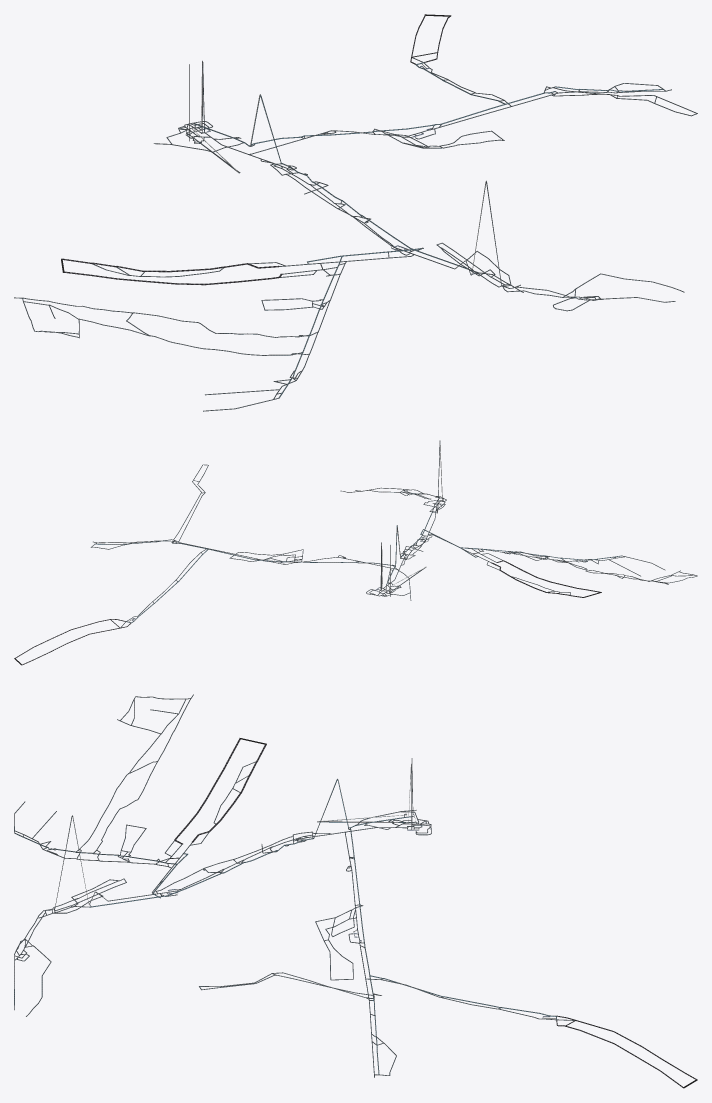
Rendered from JKYQMK.glb.
3 views of the same model, one above another, from view 1: azimuth 30°, elevation 25°; view 2: azimuth 150°, elevation 25°; view 3: azimuth 270°, elevation 25° (orthographic). The views are drawn at different scales.
Bounding box in the file's own units: 4329 × 869 × 3645.
Materials: 614 (614 with a texture image).
